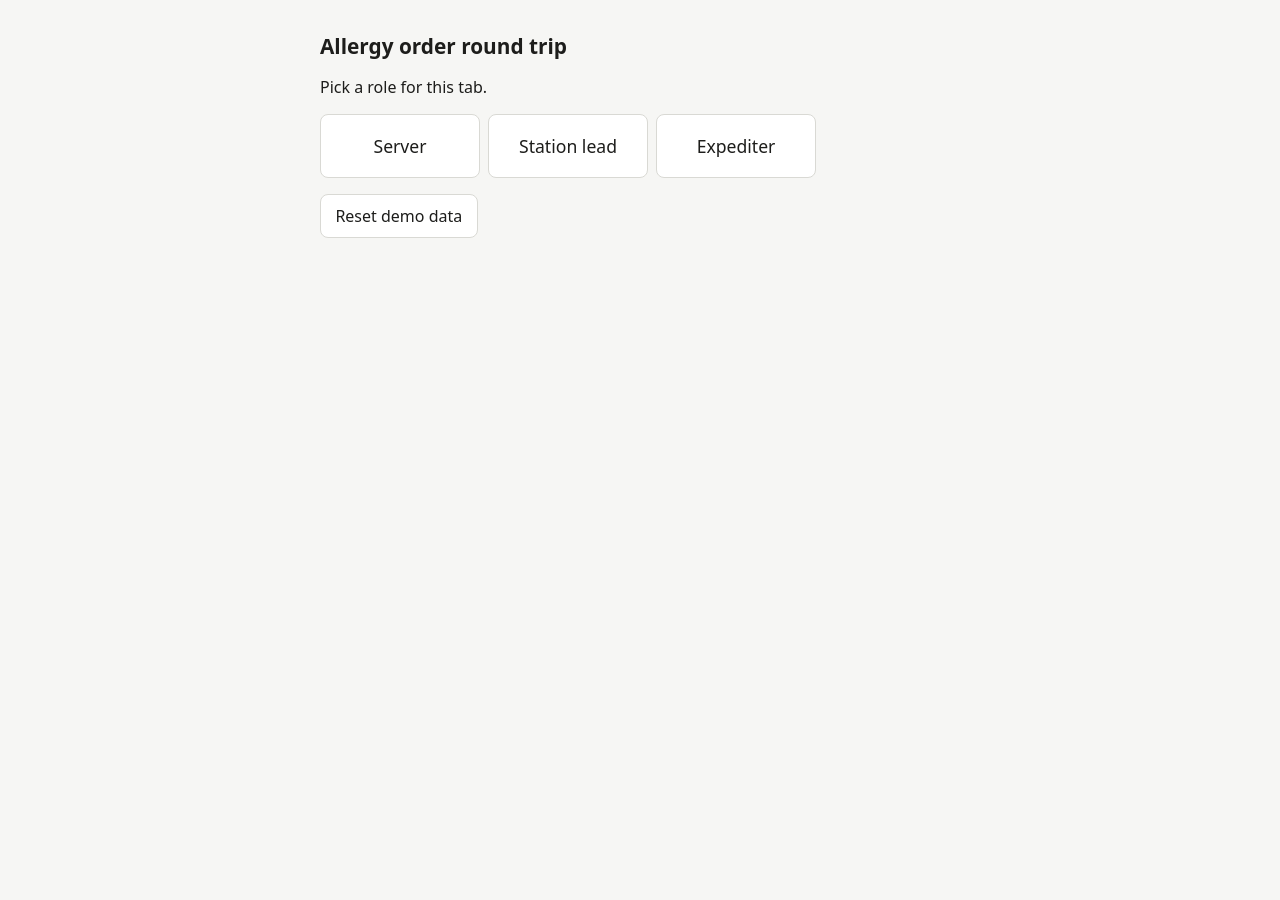
Test: app shell › REQ-09: "Server" opens /server and saves the role for this tab
Click the button "Server" at (400, 146), box [320,114,480,178]
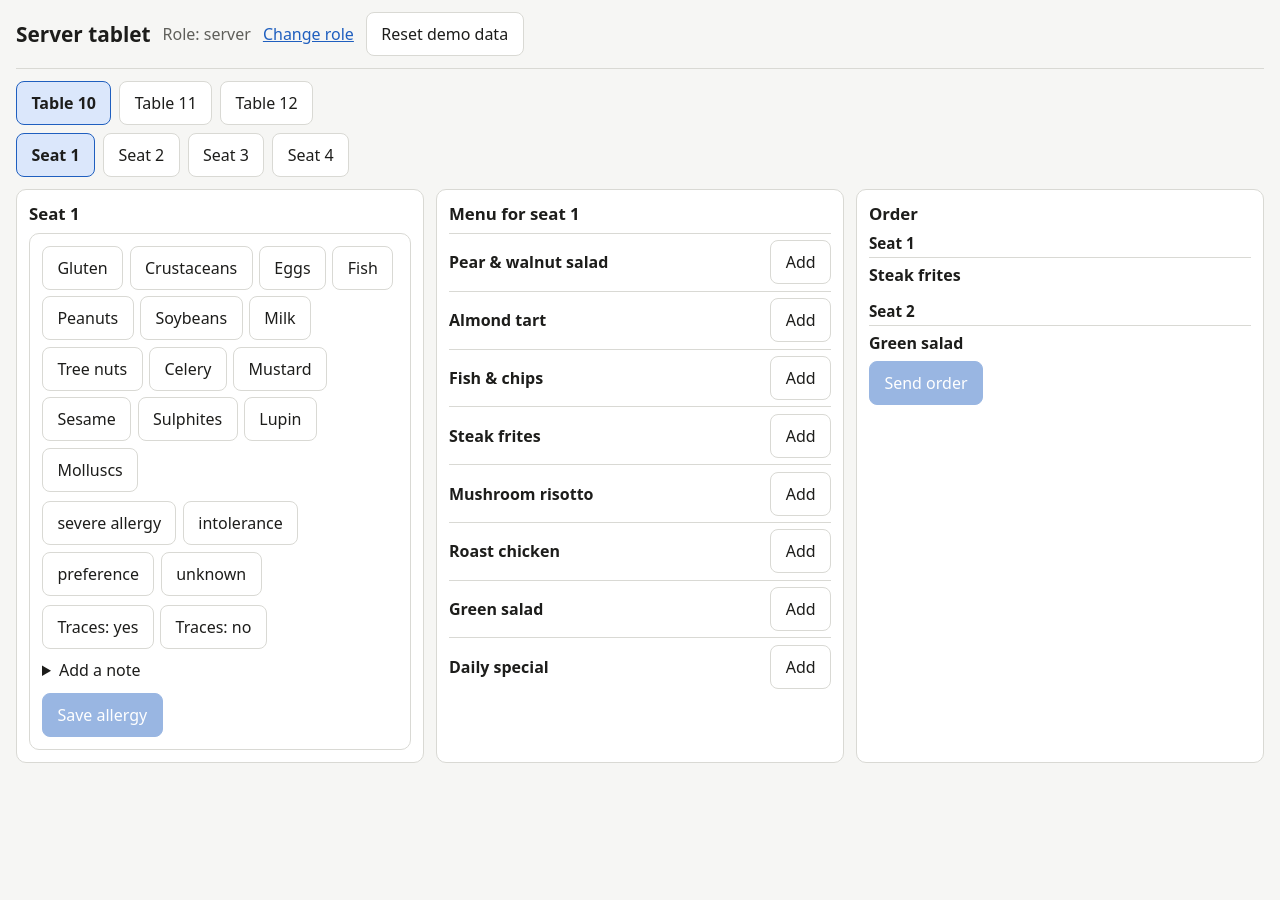
Result: the text "Role: server" is shown at [163,23,251,45]
